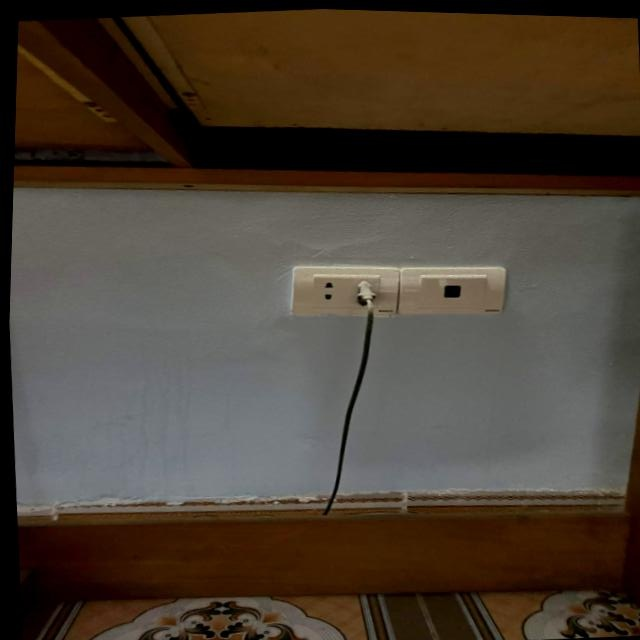outlet: (287, 260, 402, 325), (394, 261, 509, 323)
